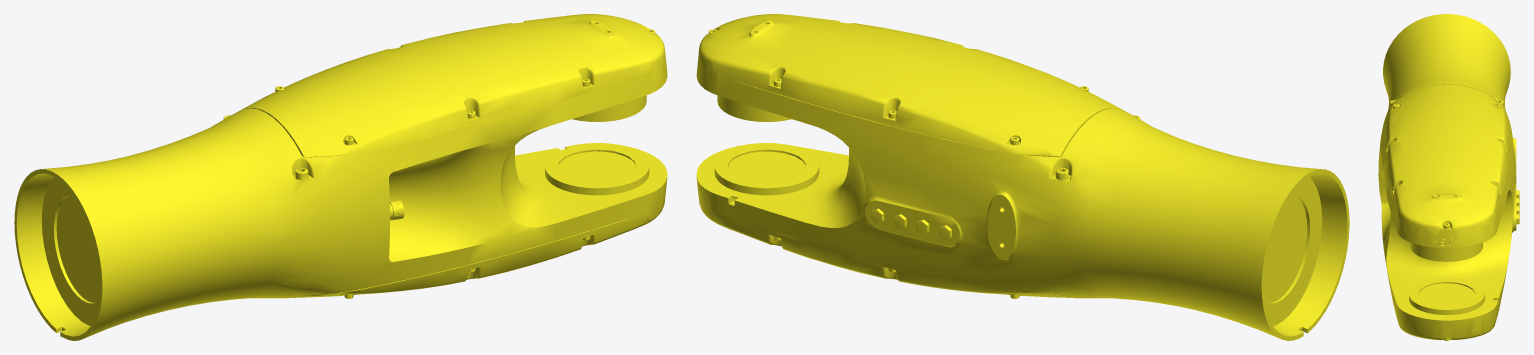
3 renders of one model, left to right at view 1: azimuth 30°, elevation 25°; view 2: azimuth 150°, elevation 25°; view 3: azimuth 270°, elevation 25°, orthographic. The views are drawn at different scales.
Visible parts, largest first — view 1: /Link4/Link4-mesh/0; view 2: /Link4/Link4-mesh/0; view 3: /Link4/Link4-mesh/0.
Part boxes in pixels (bbox=[...]): /Link4/Link4-mesh/0: bbox=[14, 14, 667, 340]; /Link4/Link4-mesh/0: bbox=[696, 14, 1349, 340]; /Link4/Link4-mesh/0: bbox=[1378, 14, 1519, 340].
Size of the model in its own units: 0.5301 by 0.1712 by 0.1487.
